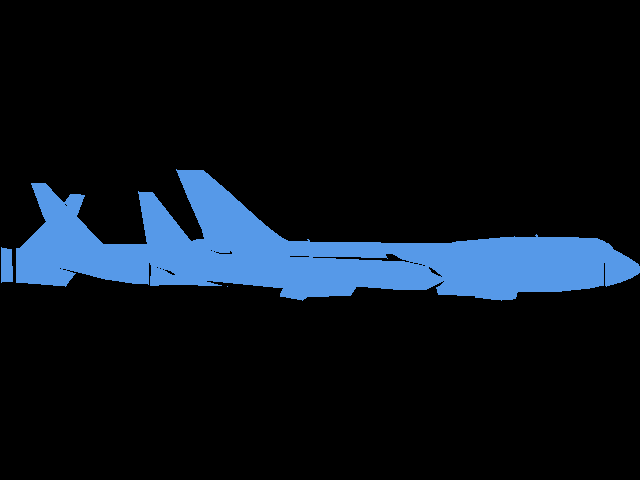Airplane: (30, 169, 640, 300), (138, 191, 447, 300), (1, 194, 85, 286)
